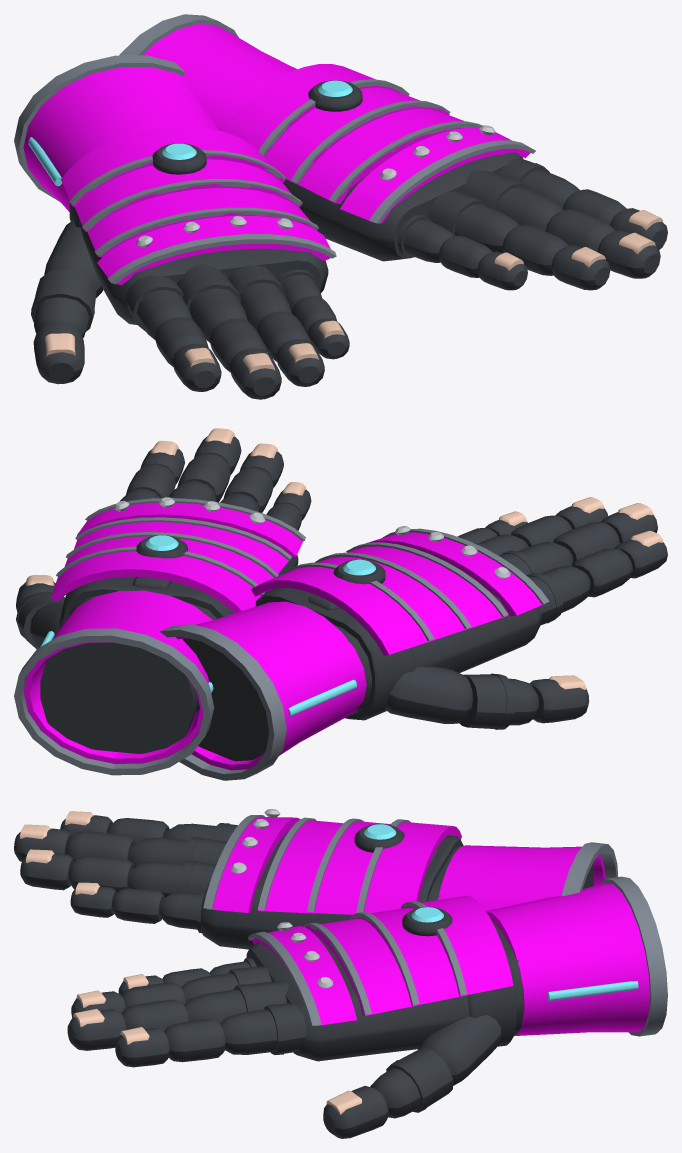
File: objet_armure4_gants.glb
3 views of the same model, one above another, from view 1: azimuth 30°, elevation 25°; view 2: azimuth 150°, elevation 25°; view 3: azimuth 270°, elevation 25° (orthographic). The views are drawn at different scales.
Parts seen in each view (by area): view 1: main__gantelet_teinte.022, main__gantelet_teinte.021, manchette__gantelet_teinte.022, manchette__gantelet_teinte.021, main__gantelet_acier_lisere.006, main.021, main__gantelet_acier_lisere.005, main.022, pouce_2.022, annulaire_1.021, majeur_1.021, majeur_1.022 (+29 smaller); view 2: main__gantelet_teinte.022, manchette.021, main__gantelet_teinte.021, manchette__gantelet_teinte.022, main.022, manchette__gantelet_teinte.021, manchette__gantelet_acier_lisere.005, manchette.022, manchette__gantelet_acier_lisere.006, main__gantelet_acier_lisere.005, main__gantelet_acier_lisere.006, pouce_1.022 (+30 smaller); view 3: manchette__gantelet_teinte.021, main__gantelet_teinte.021, main__gantelet_teinte.022, main.021, manchette__gantelet_teinte.022, main.022, main__gantelet_acier_lisere.005, pouce_2.021, index_1.021, main__gantelet_acier_lisere.006, manchette__gantelet_acier_lisere.005, pouce_1.021 (+29 smaller).
Part boxes in pixels (<box>): main__gantelet_teinte.022: <box>61,126,330,285</box>; main__gantelet_teinte.021: <box>224,64,530,223</box>; manchette__gantelet_teinte.022: <box>23,67,219,211</box>; manchette__gantelet_teinte.021: <box>143,24,297,131</box>; main__gantelet_acier_lisere.006: <box>69,150,336,284</box>; main.021: <box>232,118,523,261</box>; main__gantelet_acier_lisere.005: <box>258,79,535,223</box>; main.022: <box>69,203,328,324</box>; pouce_2.022: <box>31,269,96,337</box>; annulaire_1.021: <box>427,191,519,253</box>; majeur_1.021: <box>462,170,563,231</box>; majeur_1.022: <box>177,264,247,342</box>; main__gantelet_teinte.022: <box>251,532,545,655</box>; manchette.021: <box>40,642,197,753</box>; main__gantelet_teinte.021: <box>51,502,302,613</box>; manchette__gantelet_teinte.022: <box>176,601,366,770</box>; main.022: <box>255,588,541,720</box>; manchette__gantelet_teinte.021: <box>23,590,212,763</box>; manchette__gantelet_acier_lisere.005: <box>14,628,214,775</box>; manchette.022: <box>182,638,268,761</box>; manchette__gantelet_acier_lisere.006: <box>159,624,286,780</box>; main__gantelet_acier_lisere.005: <box>56,498,305,595</box>; main__gantelet_acier_lisere.006: <box>279,528,549,640</box>; pouce_1.022: <box>385,666,472,723</box>; manchette__gantelet_teinte.021: <box>486,883,649,1035</box>; main__gantelet_teinte.021: <box>252,895,513,1025</box>; main__gantelet_teinte.022: <box>207,816,461,914</box>; main.021: <box>246,930,523,1061</box>; manchette__gantelet_teinte.022: <box>438,845,605,910</box>; main.022: <box>200,826,463,949</box>; main__gantelet_acier_lisere.005: <box>248,901,466,1025</box>; pouce_2.021: <box>370,1047,453,1118</box>; index_1.021: <box>220,1003,306,1054</box>; main__gantelet_acier_lisere.006: <box>203,815,411,913</box>; manchette__gantelet_acier_lisere.005: <box>599,876,667,1036</box>; pouce_1.021: <box>418,1015,501,1085</box>.
Size of the model in its own units: 0.3286 by 0.0856 by 0.3517.
